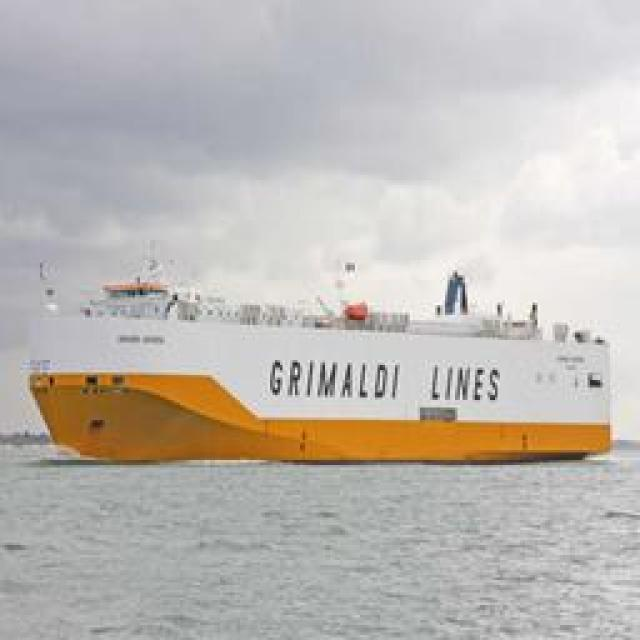CIV_Ship: (30, 254, 610, 466)
